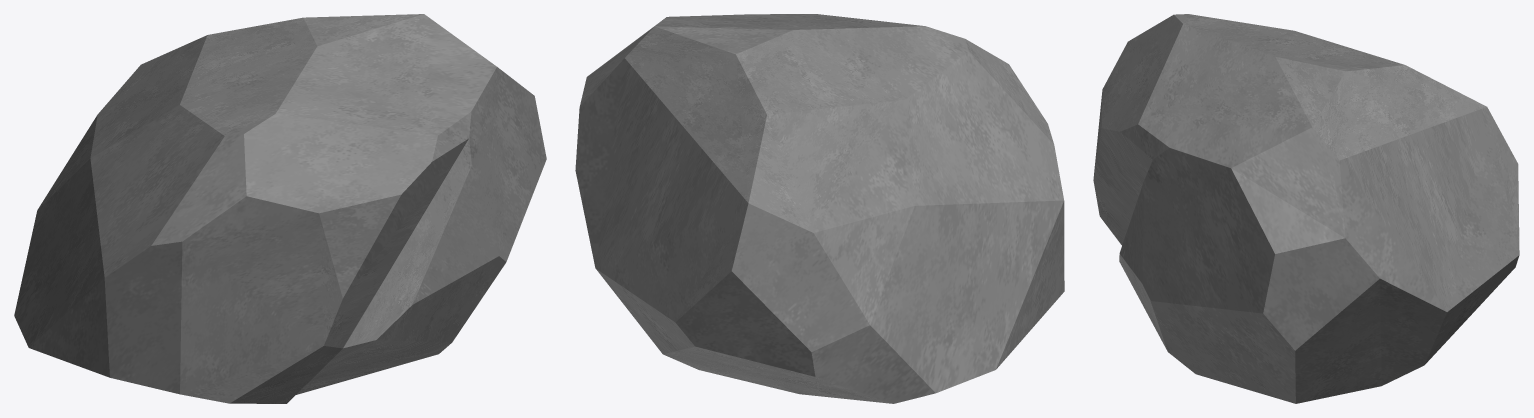
The model's file is Rock_2.fbx.
3 renders of one model, left to right at view 1: azimuth 30°, elevation 25°; view 2: azimuth 150°, elevation 25°; view 3: azimuth 270°, elevation 25°, orthographic. The views are drawn at different scales.
Parts seen in each view (by area): view 1: Rock.008; view 2: Rock.008; view 3: Rock.008.
Part boxes in pixels (x1,y1,x2,y2): Rock.008: (14,14,546,403); Rock.008: (575,14,1064,403); Rock.008: (1093,14,1519,403).
Size of the model in its own units: 148 by 98.47 by 122.
